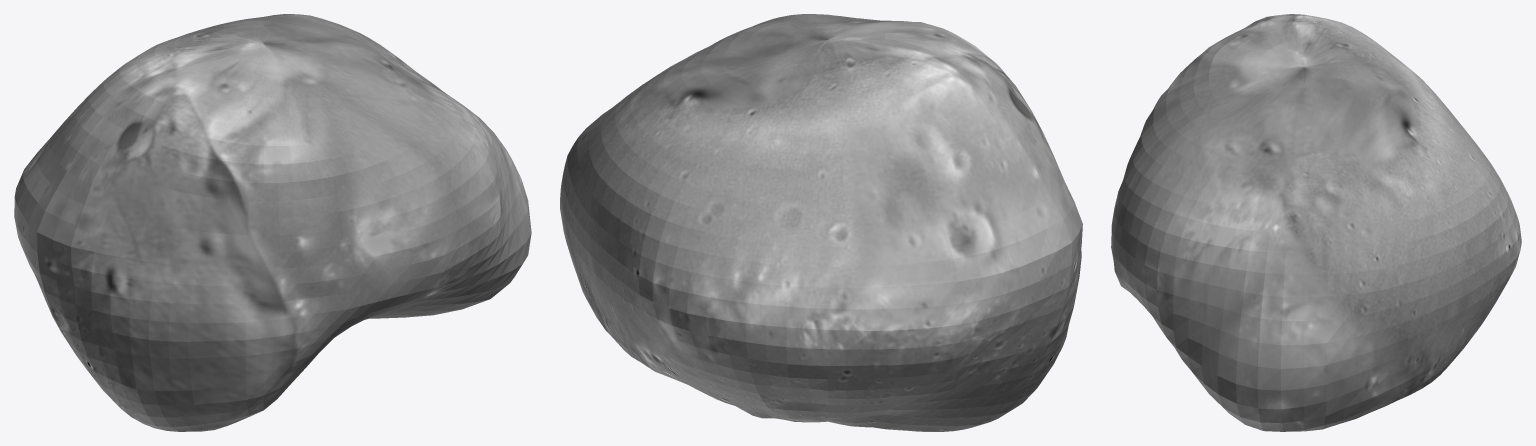
The model's file is deimos.obj.
The picture shows the model from 3 angles, left to right: view 1: azimuth 30°, elevation 25°; view 2: azimuth 150°, elevation 25°; view 3: azimuth 270°, elevation 25°; orthographic projection. The views are drawn at different scales.
Visible parts, largest first — view 1: Object_1; view 2: Object_1; view 3: Object_1.
Part boxes in pixels (left/top/right/bottom): Object_1: left=14, top=14, right=531, bottom=431; Object_1: left=560, top=14, right=1082, bottom=431; Object_1: left=1111, top=14, right=1521, bottom=431.
Bounding box in the file's own units: 15.88 × 11.1 × 12.58.
1 material, 1 textured.
